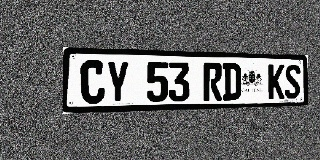3: (169, 62, 189, 102)
5: (147, 61, 168, 102)
C: (80, 60, 105, 104)
D: (223, 63, 241, 100)
K: (268, 64, 284, 99)
R: (203, 63, 222, 101)
S: (285, 64, 300, 99)
Y: (106, 61, 129, 103)
